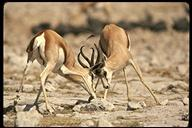antelope: (13, 28, 102, 114), (79, 23, 162, 105)
rock: (10, 110, 45, 125), (83, 99, 116, 111)
